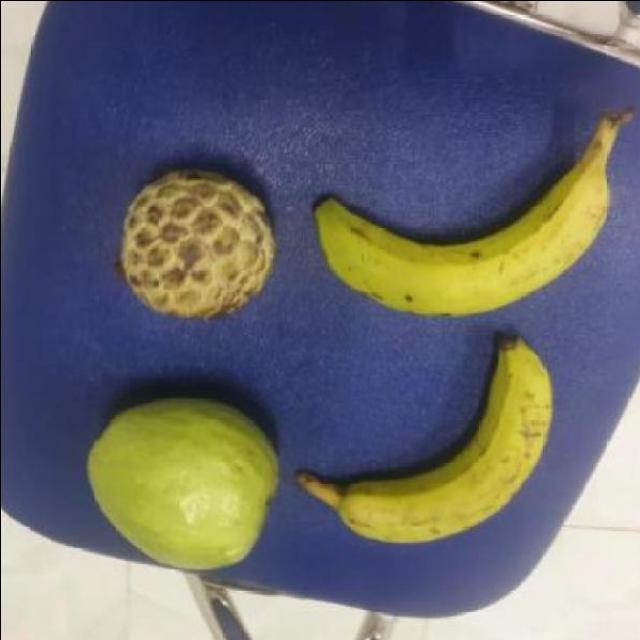banana: (298, 129, 608, 312), (286, 333, 550, 542)
guava: (83, 398, 280, 576)
sugar apple: (102, 166, 272, 318)
